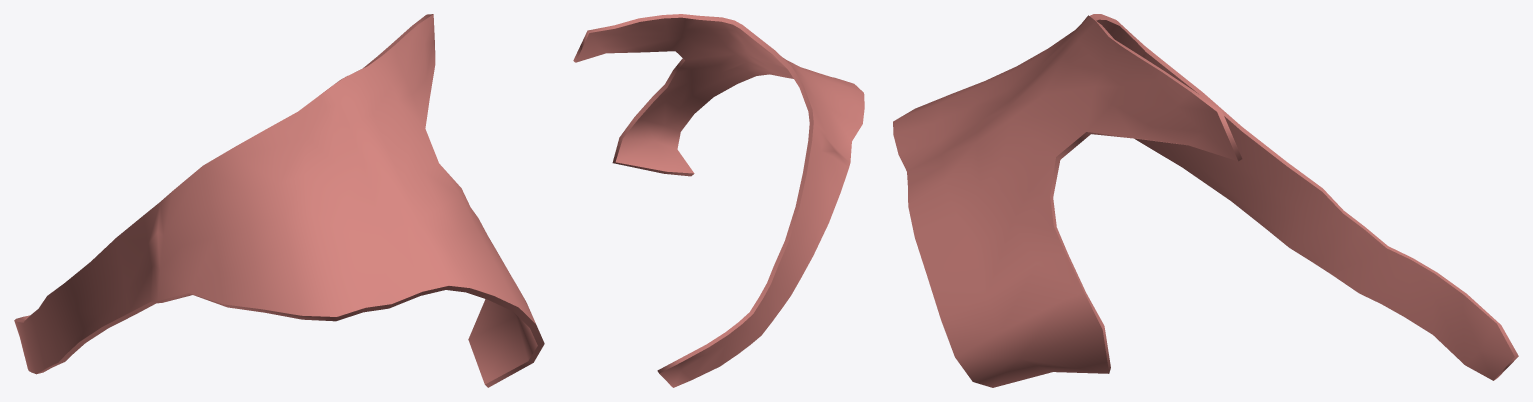
3 renders of one model, left to right at view 1: azimuth 30°, elevation 25°; view 2: azimuth 150°, elevation 25°; view 3: azimuth 270°, elevation 25°, orthographic. The views are drawn at different scales.
Visible parts, largest first — view 1: ZA_9b541b82627c976e; view 2: ZA_9b541b82627c976e; view 3: ZA_9b541b82627c976e.
Part boxes in pixels (<box>): ZA_9b541b82627c976e: <box>14,14,544,387</box>; ZA_9b541b82627c976e: <box>573,14,864,387</box>; ZA_9b541b82627c976e: <box>893,14,1518,387</box>.
Bounding box in the file's own units: 0.0574 × 0.0598 × 0.081.
